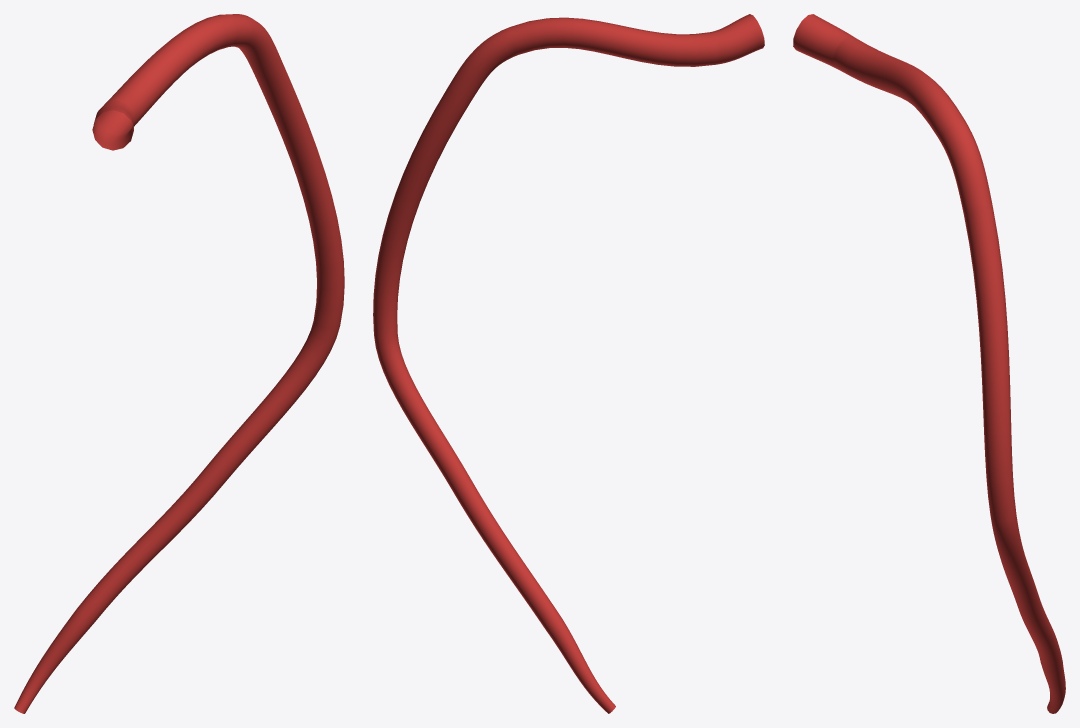
3 views of the same model, side by side, from view 1: azimuth 30°, elevation 25°; view 2: azimuth 150°, elevation 25°; view 3: azimuth 270°, elevation 25° (orthographic). The views are drawn at different scales.
Visible parts, largest first — view 1: 右侧膝下内侧动脉; view 2: 右侧膝下内侧动脉; view 3: 右侧膝下内侧动脉.
Part boxes in pixels (box(x1,y1,x2,y2)): 右侧膝下内侧动脉: box(14, 14, 344, 713); 右侧膝下内侧动脉: box(373, 14, 764, 713); 右侧膝下内侧动脉: box(793, 14, 1065, 713).
Size of the model in its own units: 0.0564 by 0.1108 by 0.0399.
